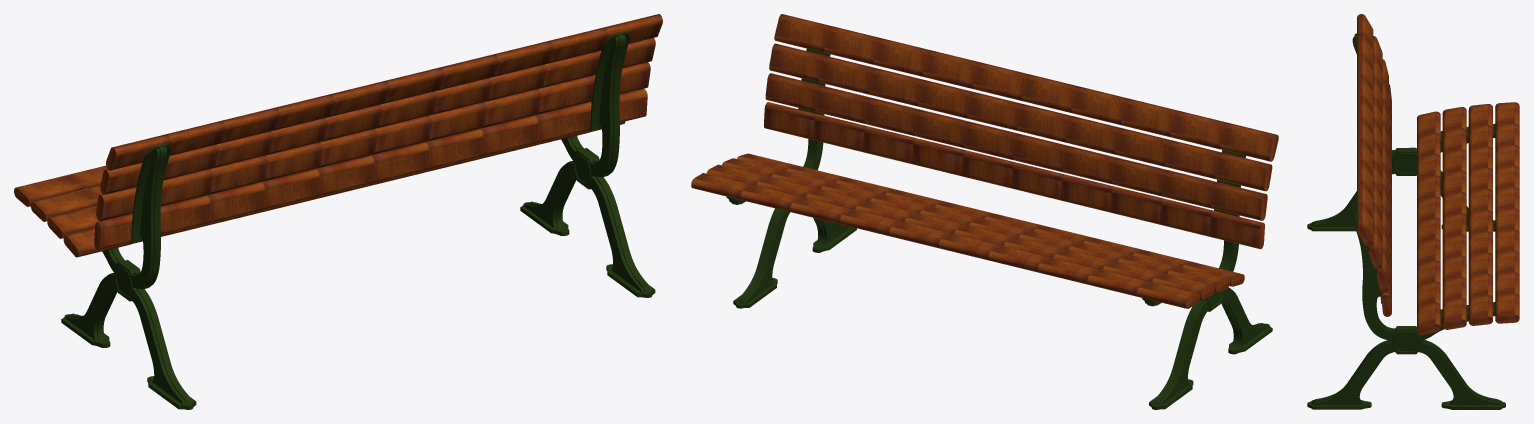
The picture shows the model from 3 angles, left to right: view 1: azimuth 30°, elevation 25°; view 2: azimuth 150°, elevation 25°; view 3: azimuth 270°, elevation 25°; orthographic projection. The views are drawn at different scales.
Visible parts, largest first — view 1: mesh1_mesh1-geometry, mesh22_mesh22-geometry, mesh4_mesh4-geometry, mesh10_mesh10-geometry, mesh25_mesh25-geometry, mesh35_mesh35-geometry, mesh19_mesh19-geometry, mesh16_mesh16-geometry, mesh13_mesh13-geometry, mesh7_mesh7-geometry; view 2: mesh4_mesh4-geometry, mesh10_mesh10-geometry, mesh22_mesh22-geometry, mesh1_mesh1-geometry, mesh16_mesh16-geometry, mesh13_mesh13-geometry, mesh7_mesh7-geometry, mesh35_mesh35-geometry, mesh19_mesh19-geometry, mesh25_mesh25-geometry; view 3: mesh25_mesh25-geometry, mesh16_mesh16-geometry, mesh7_mesh7-geometry, mesh13_mesh13-geometry, mesh19_mesh19-geometry, mesh4_mesh4-geometry, mesh10_mesh10-geometry, mesh35_mesh35-geometry, mesh22_mesh22-geometry, mesh1_mesh1-geometry.
Boxes of the visible parts, x1=… form: mesh1_mesh1-geometry: x1=94, y1=89, x2=647, y2=249; mesh22_mesh22-geometry: x1=96, y1=62, x2=650, y2=221; mesh4_mesh4-geometry: x1=106, y1=14, x2=662, y2=170; mesh10_mesh10-geometry: x1=100, y1=38, x2=655, y2=194; mesh25_mesh25-geometry: x1=520, y1=31, x2=655, y2=297; mesh35_mesh35-geometry: x1=61, y1=143, x2=196, y2=409; mesh19_mesh19-geometry: x1=63, y1=121, x2=625, y2=257; mesh16_mesh16-geometry: x1=14, y1=165, x2=107, y2=206; mesh13_mesh13-geometry: x1=30, y1=185, x2=102, y2=221; mesh7_mesh7-geometry: x1=47, y1=206, x2=99, y2=238; mesh4_mesh4-geometry: x1=774, y1=14, x2=1278, y2=161; mesh10_mesh10-geometry: x1=769, y1=43, x2=1272, y2=191; mesh22_mesh22-geometry: x1=765, y1=73, x2=1267, y2=220; mesh1_mesh1-geometry: x1=764, y1=102, x2=1264, y2=249; mesh16_mesh16-geometry: x1=691, y1=173, x2=1200, y2=308; mesh13_mesh13-geometry: x1=706, y1=164, x2=1215, y2=299; mesh7_mesh7-geometry: x1=722, y1=158, x2=1229, y2=292; mesh35_mesh35-geometry: x1=1142, y1=150, x2=1272, y2=409; mesh19_mesh19-geometry: x1=737, y1=153, x2=1244, y2=286; mesh25_mesh25-geometry: x1=726, y1=48, x2=856, y2=308; mesh25_mesh25-geometry: x1=1307, y1=211, x2=1505, y2=409; mesh16_mesh16-geometry: x1=1495, y1=102, x2=1519, y2=323; mesh7_mesh7-geometry: x1=1442, y1=107, x2=1466, y2=329; mesh13_mesh13-geometry: x1=1468, y1=104, x2=1492, y2=325; mesh19_mesh19-geometry: x1=1417, y1=111, x2=1440, y2=335; mesh4_mesh4-geometry: x1=1357, y1=14, x2=1373, y2=246; mesh10_mesh10-geometry: x1=1368, y1=36, x2=1382, y2=269; mesh35_mesh35-geometry: x1=1307, y1=33, x2=1495, y2=231; mesh22_mesh22-geometry: x1=1376, y1=59, x2=1388, y2=292; mesh1_mesh1-geometry: x1=1381, y1=84, x2=1391, y2=316.
Bounding box in the file's own units: 0.8558 × 0.3703 × 0.3612.
